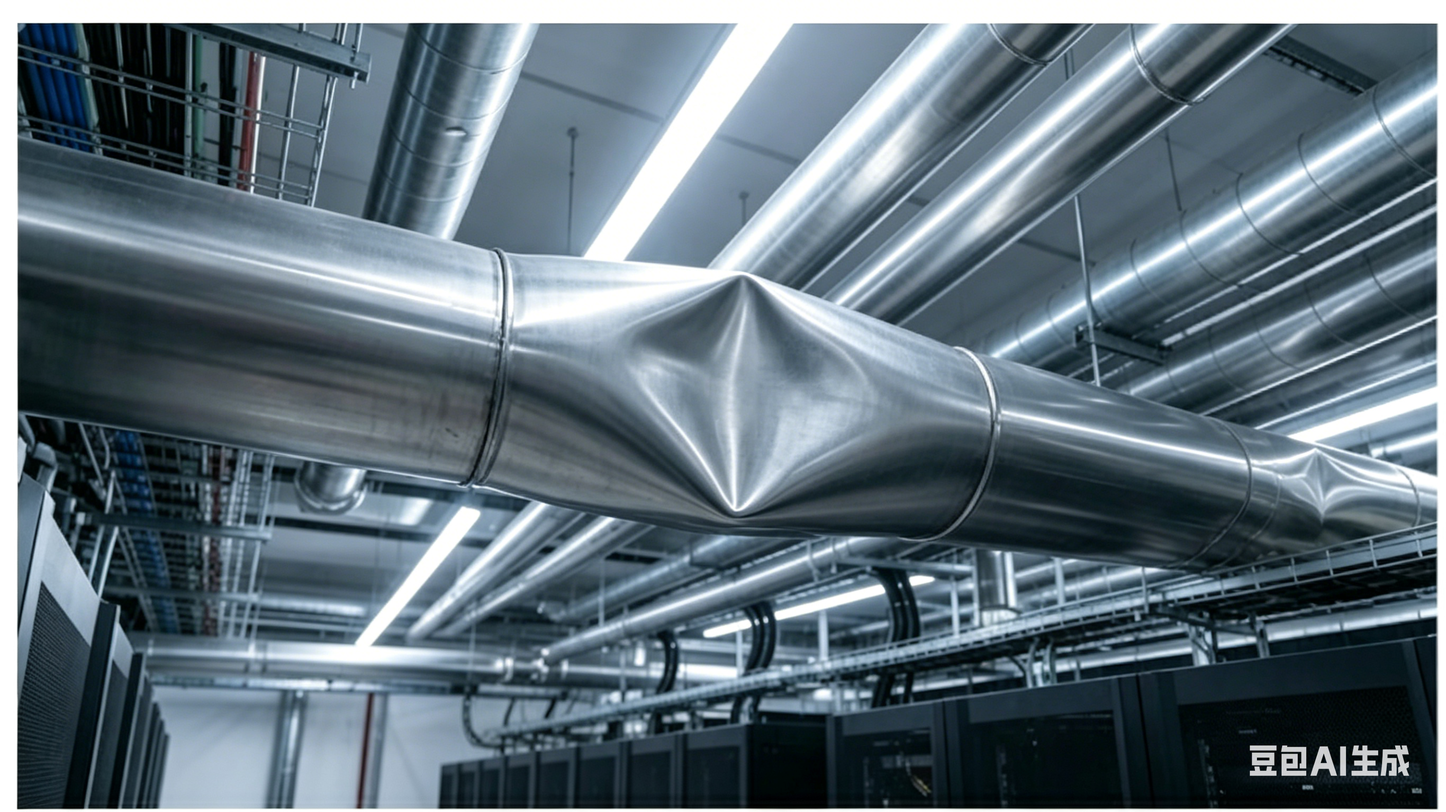Leakage: (543, 255, 978, 549), (1238, 423, 1413, 539)
